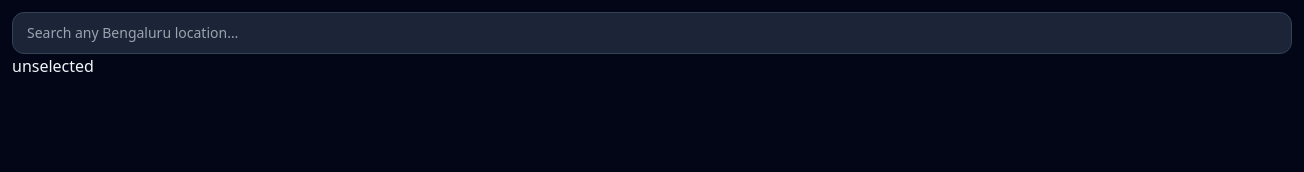
Test: LocationSearch › shows no-results and error states
This screenshot has width=1304, height=172.
Type "Missing" into the dropdown.
click(652, 33); type("Missing")  # box x1=12 y1=12 x2=1292 y2=54
Wait 300 ms
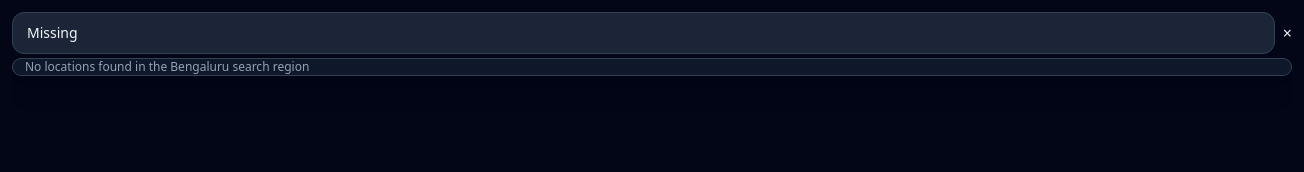
Expected: the text "No locations found in the Bengaluru search region" is shown, x1=25 y1=58 x2=309 y2=75
Replace the text in the dropdown with "Offline" at (643, 33), box x1=12 y1=12 x2=1275 y2=54
Wait 300 ms
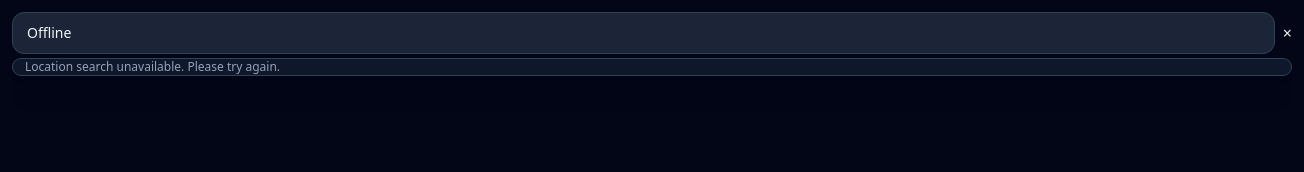
Expected: the text "Location search unavailable. Please try again." is shown, x1=25 y1=58 x2=280 y2=75
